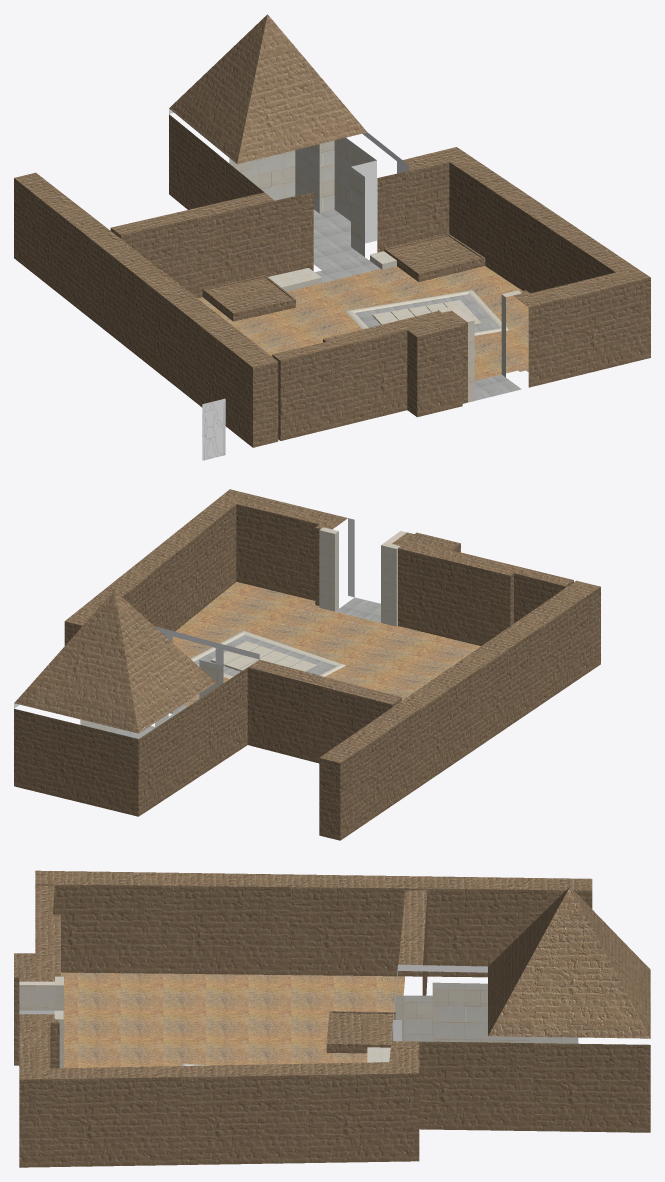
File: Anonymous_Dyn18.glb
3 renders of one model, top to bottom at view 1: azimuth 30°, elevation 25°; view 2: azimuth 150°, elevation 25°; view 3: azimuth 270°, elevation 25°, orthographic. The views are drawn at different scales.
Parts seen in each view (by area): view 1: Mesh1 Model, Mesh4 Model; view 2: Mesh1 Model; view 3: Mesh1 Model.
Part boxes in pixels (<box>): Mesh1 Model: <box>14,14,650,447</box>; Mesh4 Model: <box>202,398,225,460</box>; Mesh1 Model: <box>14,489,600,840</box>; Mesh1 Model: <box>14,870,650,1167</box>.
Size of the model in its own units: 13.08 by 5.45 by 14.9.
8 materials, 7 textured.
